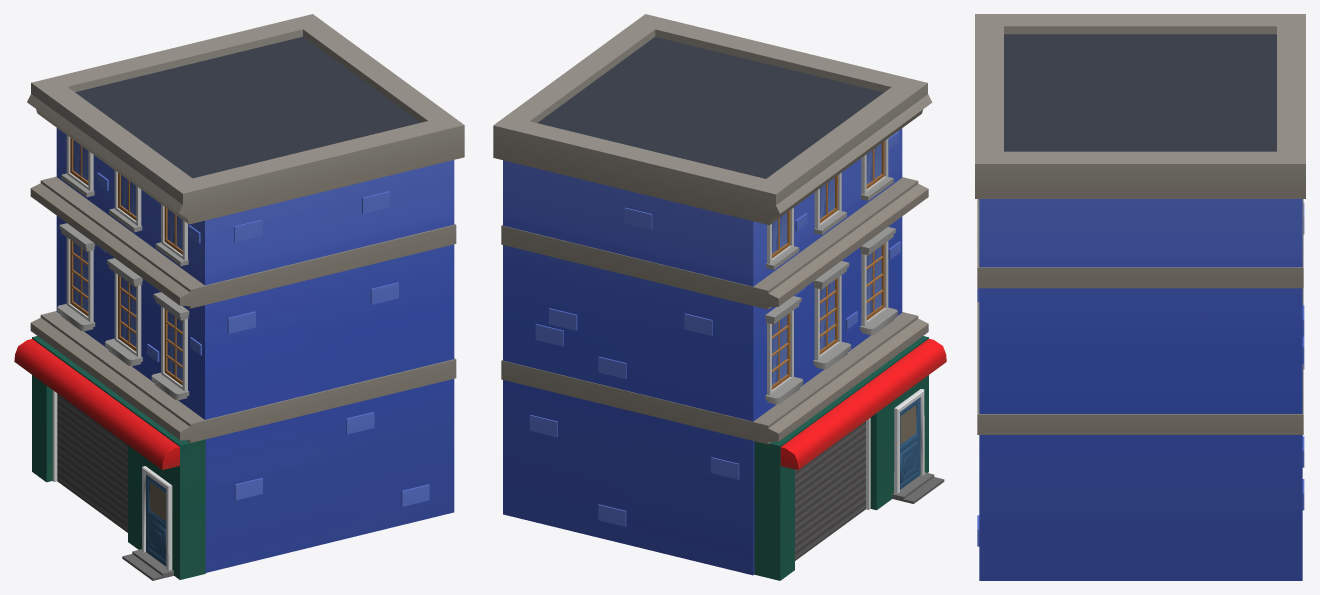
The model's file is Building_19_2_D.fbx.
3 renders of one model, left to right at view 1: azimuth 30°, elevation 25°; view 2: azimuth 150°, elevation 25°; view 3: azimuth 270°, elevation 25°, orthographic. The views are drawn at different scales.
Visible parts, largest first — view 1: Building_19_2_D; view 2: Building_19_2_D; view 3: Building_19_2_D.
Part boxes in pixels (x1=…): Building_19_2_D: x1=14, y1=14, x2=464, y2=580; Building_19_2_D: x1=493, y1=14, x2=946, y2=580; Building_19_2_D: x1=975, y1=14, x2=1305, y2=580.
Bounding box in the file's own units: 774 × 938 × 667.
